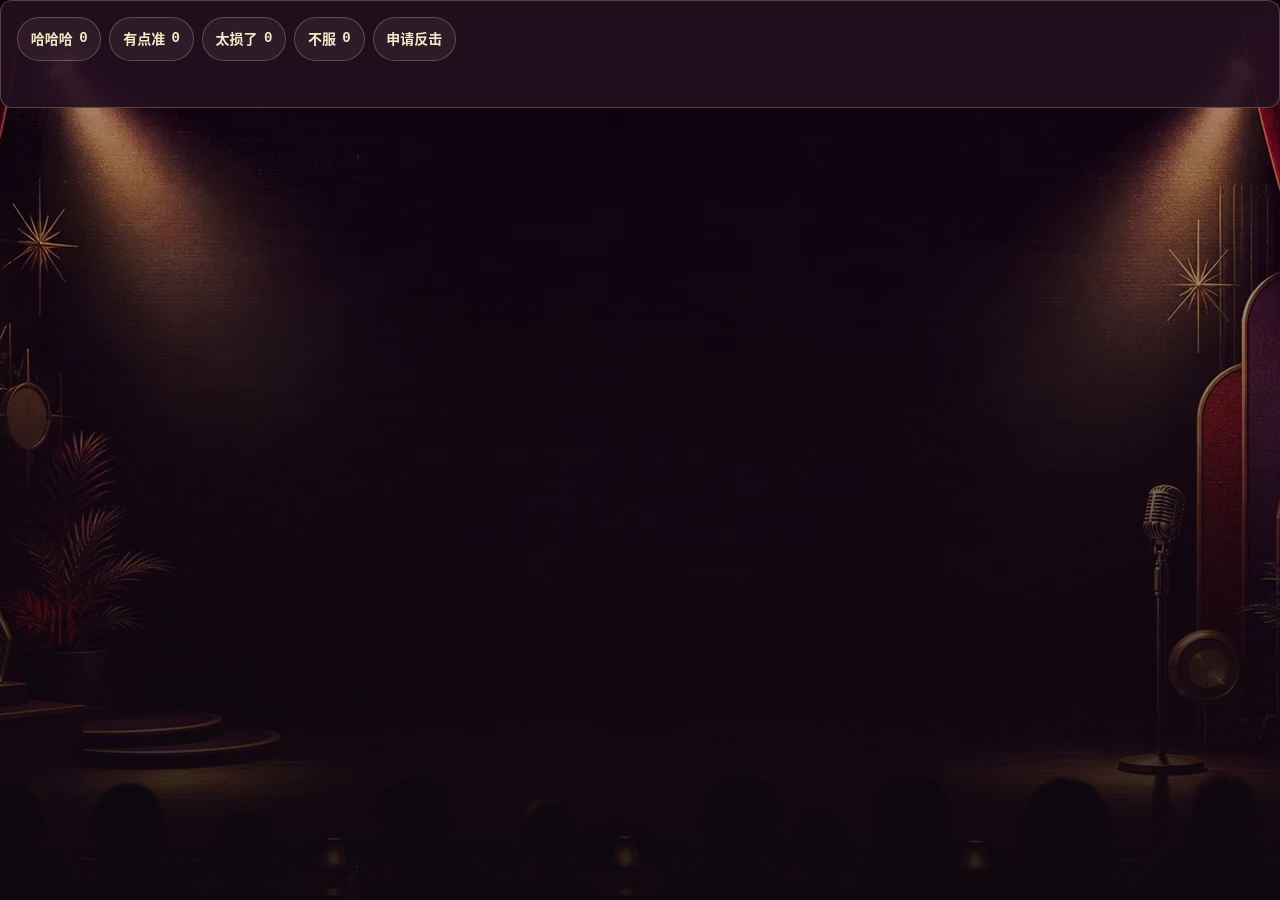
Test case: AudienceReactionBar › uses a real two-step 不服 flow, seeds only on second activation, then navigates
Click the link "不服 0" at (329, 39), box [294,17,365,61]
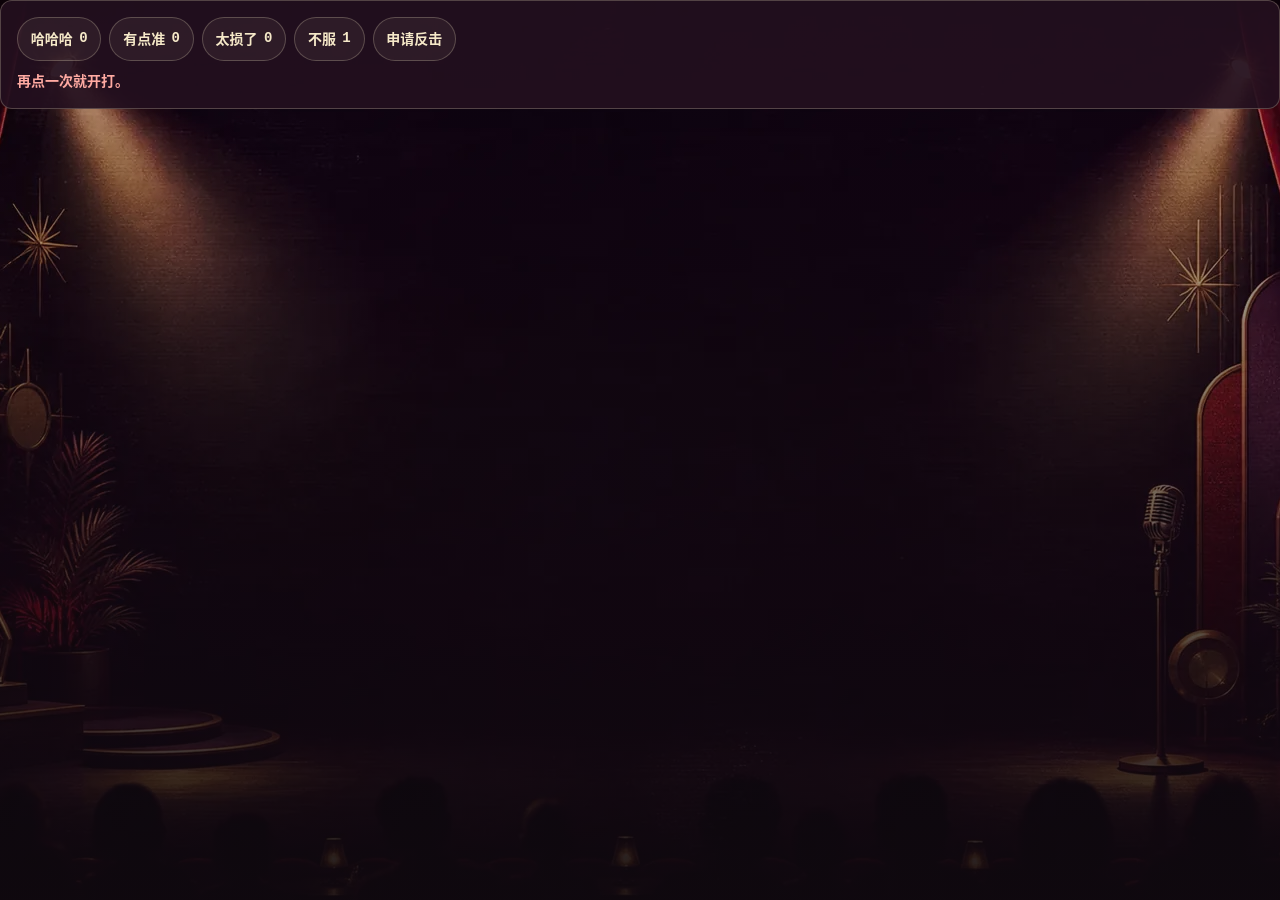
Check: the link "不服 1" is shown
Check: the message reads "再点一次就开打。", box [17,70,129,90]
Click the link "不服 1" at (329, 39), box [294,17,365,61]
Wait 700 ms
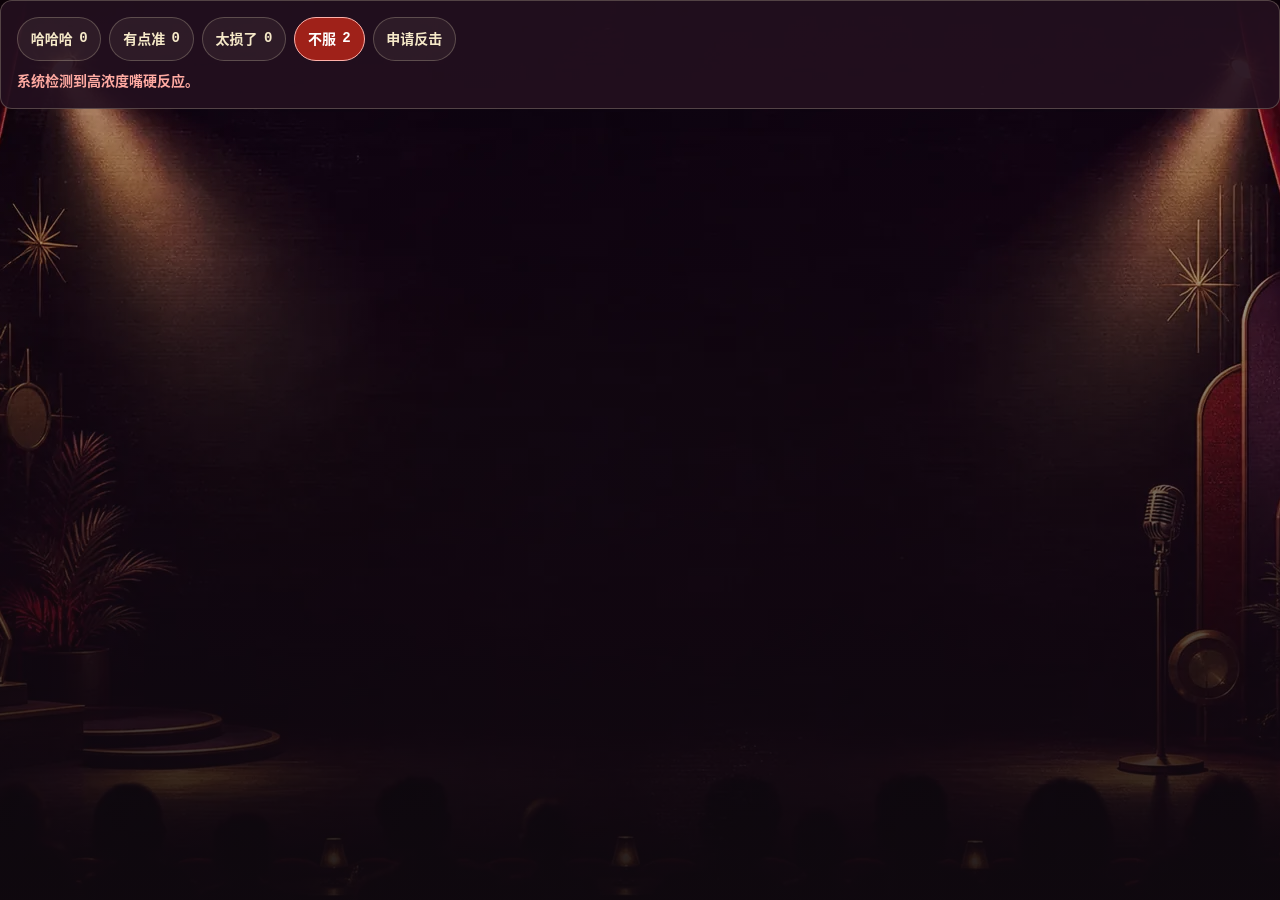
Check: the link "不服 2" is shown, box [294,17,365,61]
Check: the message reads "系统检测到高浓度嘴硬反应。", box [17,70,199,90]
